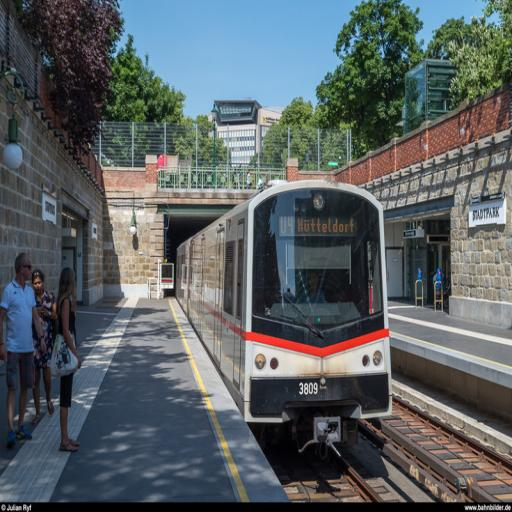V-Wagen: (177, 171, 393, 433)
